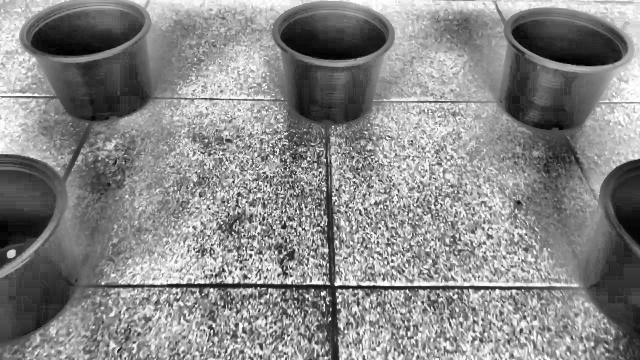pot: (497, 7, 640, 131), (19, 0, 154, 122), (272, 1, 396, 124)
